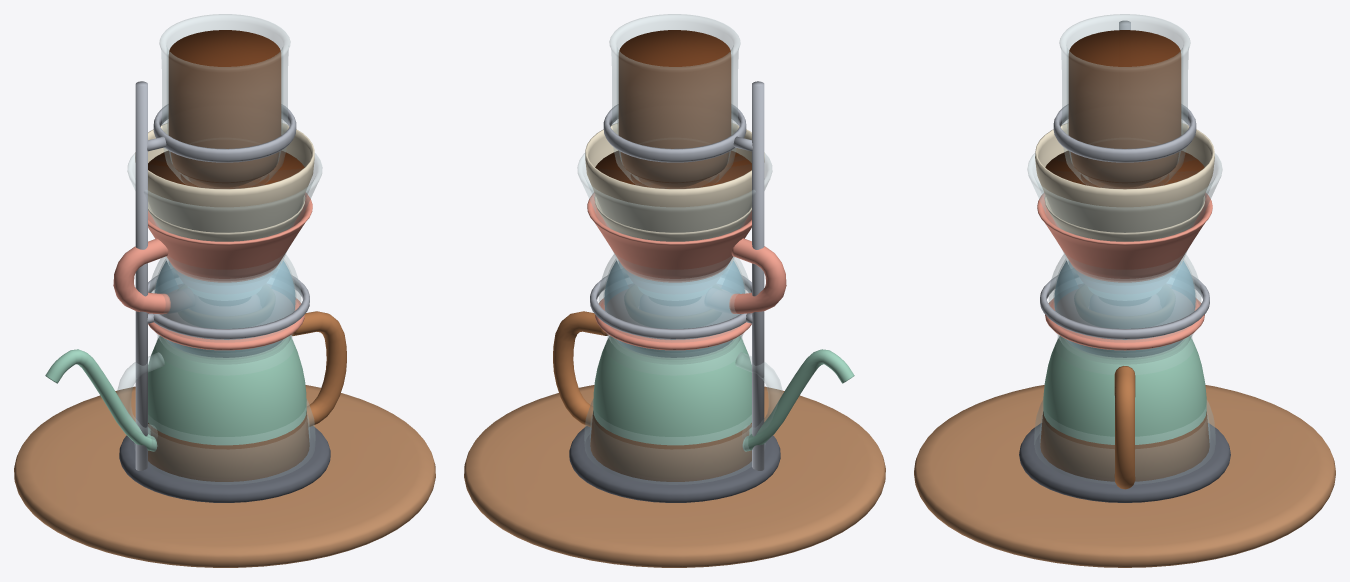
The model's file is brewers.glb.
3 renders of one model, left to right at view 1: azimuth 30°, elevation 25°; view 2: azimuth 150°, elevation 25°; view 3: azimuth 270°, elevation 25°, orthographic.
Parts seen in each view (by area): view 1: counter_top, sy_upper, chemex_glass, sy_up, kettle_body, sy_lower, chemex_paper, sy_low, chemex_cup, sy_base, cone_body, sy_rod (+12 smaller); view 2: counter_top, sy_upper, chemex_glass, sy_up, kettle_body, sy_lower, chemex_paper, sy_low, chemex_cup, sy_base, cone_body, sy_rod (+12 smaller); view 3: counter_top, sy_upper, chemex_glass, sy_up, kettle_body, sy_lower, chemex_paper, sy_low, sy_base, cone_body, chemex_cup, cone_plate (+8 smaller).
Part boxes in pixels (x1,y1,x2,y2): counter_top: [14, 385, 435, 567]; sy_upper: [159, 14, 290, 188]; chemex_glass: [127, 153, 322, 484]; sy_up: [168, 30, 281, 187]; kettle_body: [148, 336, 306, 445]; sy_lower: [149, 254, 300, 363]; chemex_paper: [135, 123, 314, 232]; sy_low: [155, 260, 295, 357]; chemex_cup: [148, 411, 309, 481]; sy_base: [119, 426, 330, 502]; cone_body: [148, 193, 312, 282]; sy_rod: [135, 81, 147, 470]; counter_top: [464, 385, 885, 567]; sy_upper: [609, 14, 740, 188]; chemex_glass: [577, 153, 772, 484]; sy_up: [618, 30, 731, 187]; kettle_body: [593, 336, 751, 445]; sy_lower: [599, 254, 750, 363]; chemex_paper: [585, 123, 764, 232]; sy_low: [604, 260, 744, 357]; chemex_cup: [590, 411, 751, 481]; sy_base: [569, 426, 780, 502]; cone_body: [587, 193, 751, 282]; sy_rod: [752, 81, 764, 470]; counter_top: [914, 385, 1335, 567]; sy_upper: [1059, 14, 1190, 188]; chemex_glass: [1027, 153, 1222, 483]; sy_up: [1068, 30, 1181, 187]; kettle_body: [1043, 336, 1206, 444]; sy_lower: [1049, 254, 1200, 363]; chemex_paper: [1035, 123, 1214, 232]; sy_low: [1054, 261, 1195, 357]; sy_base: [1019, 423, 1230, 502]; cone_body: [1037, 193, 1212, 282]; chemex_cup: [1040, 411, 1209, 481]; cone_plate: [1045, 290, 1204, 350].
Size of the model in its own units: 0.3075 by 0.356 by 0.3075.
